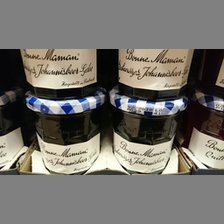jam: (24, 87, 106, 174), (109, 86, 188, 175), (111, 49, 195, 101), (18, 49, 102, 99), (184, 86, 224, 169)
